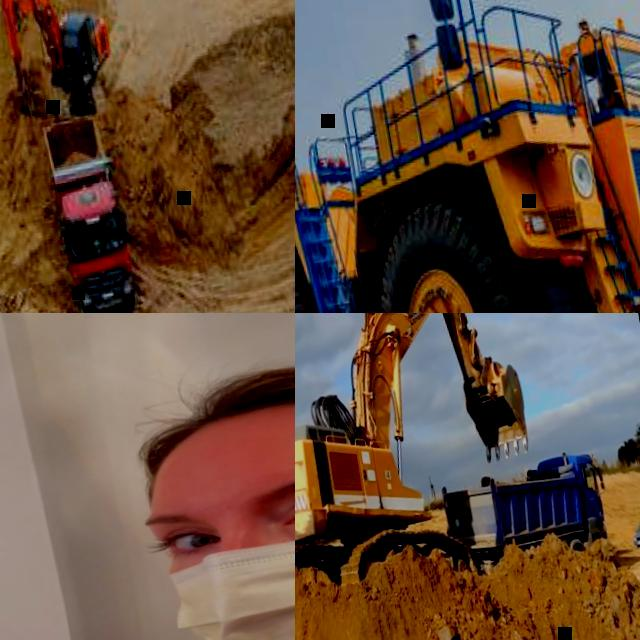machinery: (295, 0, 640, 313), (295, 313, 547, 607), (34, 104, 148, 313), (436, 447, 614, 574), (0, 0, 121, 126)
mask: (156, 478, 295, 640)
no_helmet: (136, 336, 295, 483)
person: (0, 317, 295, 640)
vehicle: (630, 513, 640, 548)
